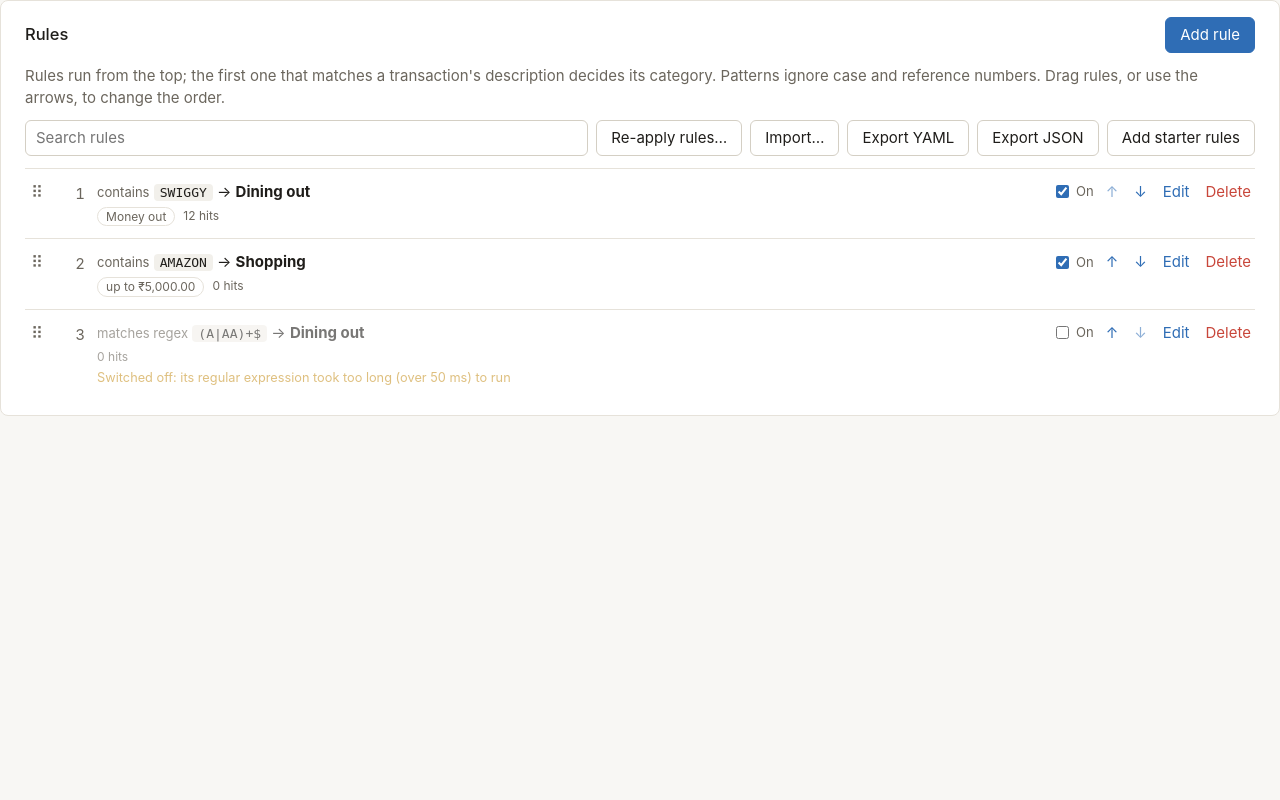
Settings › Rules › rejects malformed amounts before saving
Click the button "Add rule".
click(1210, 35)  # box x1=1165 y1=17 x2=1255 y2=53
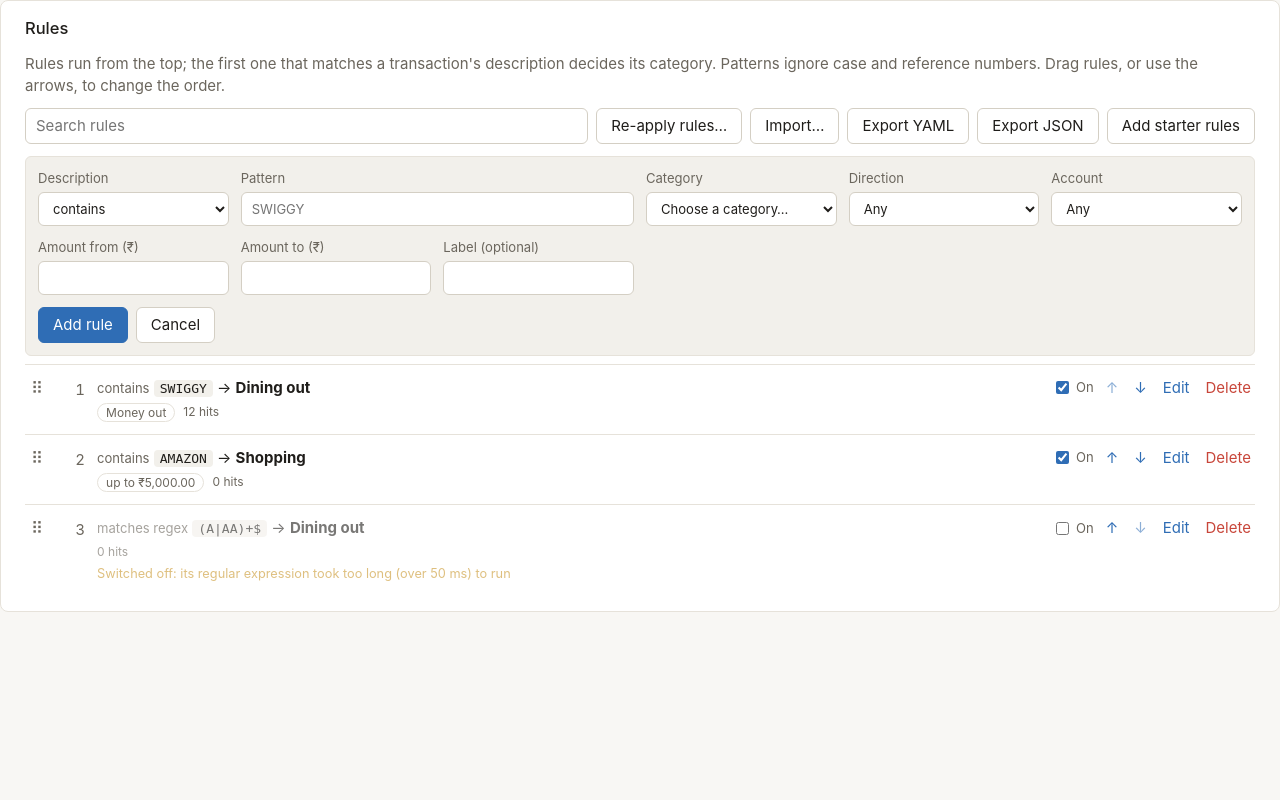
Type "12.345" into the field labelled "Amount from (₹)".
click(133, 278); type("12.345")  # box x1=38 y1=261 x2=229 y2=295
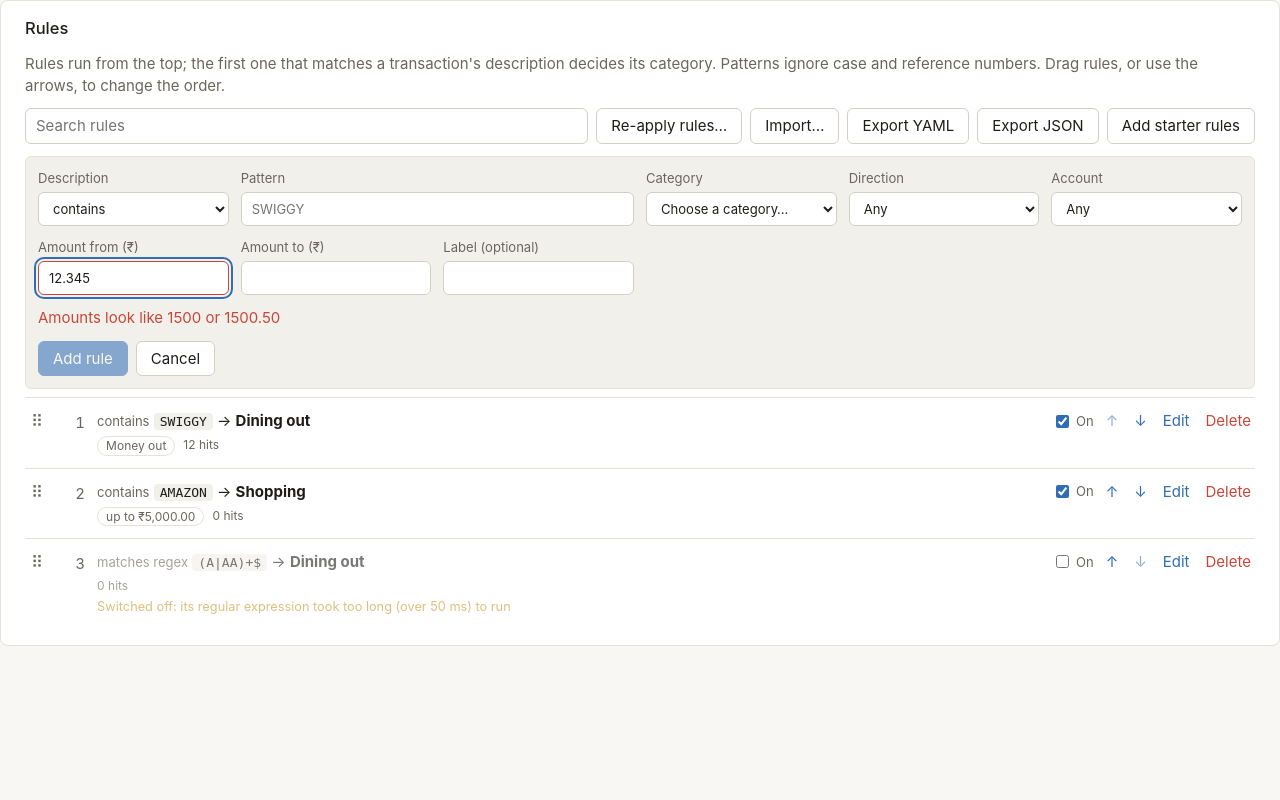
Result: the text "Amounts look like 1500 or 1500.50" is shown at x1=38 y1=308 x2=280 y2=327
Result: the button "Add rule" is disabled at x1=38 y1=341 x2=128 y2=376
